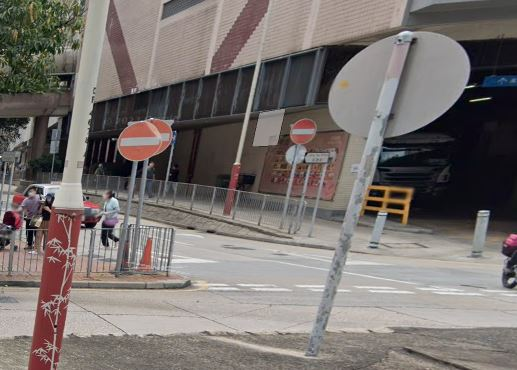No Enter: (118, 116, 174, 160), (290, 119, 317, 145)
